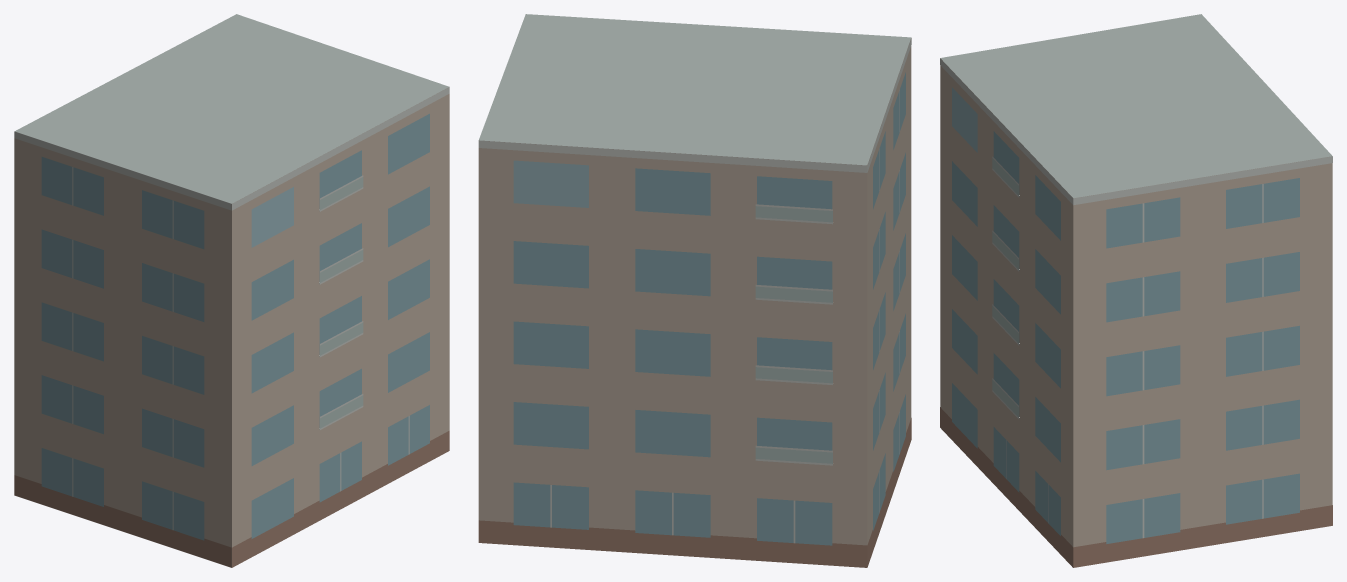
The model's file is survey-upis-32685005.glb.
The picture shows the model from 3 angles, left to right: view 1: azimuth 30°, elevation 25°; view 2: azimuth 150°, elevation 25°; view 3: azimuth 270°, elevation 25°; orthographic projection. The views are drawn at different scales.
Parts seen in each view (by area): view 1: survey-upis-32685005.tmp; view 2: survey-upis-32685005.tmp; view 3: survey-upis-32685005.tmp.
Part boxes in pixels (x1=…): survey-upis-32685005.tmp: x1=14, y1=14, x2=449, y2=567; survey-upis-32685005.tmp: x1=478, y1=14, x2=911, y2=567; survey-upis-32685005.tmp: x1=940, y1=14, x2=1332, y2=567.
Bounding box in the file's own units: 13.91 × 13 × 12.53.
